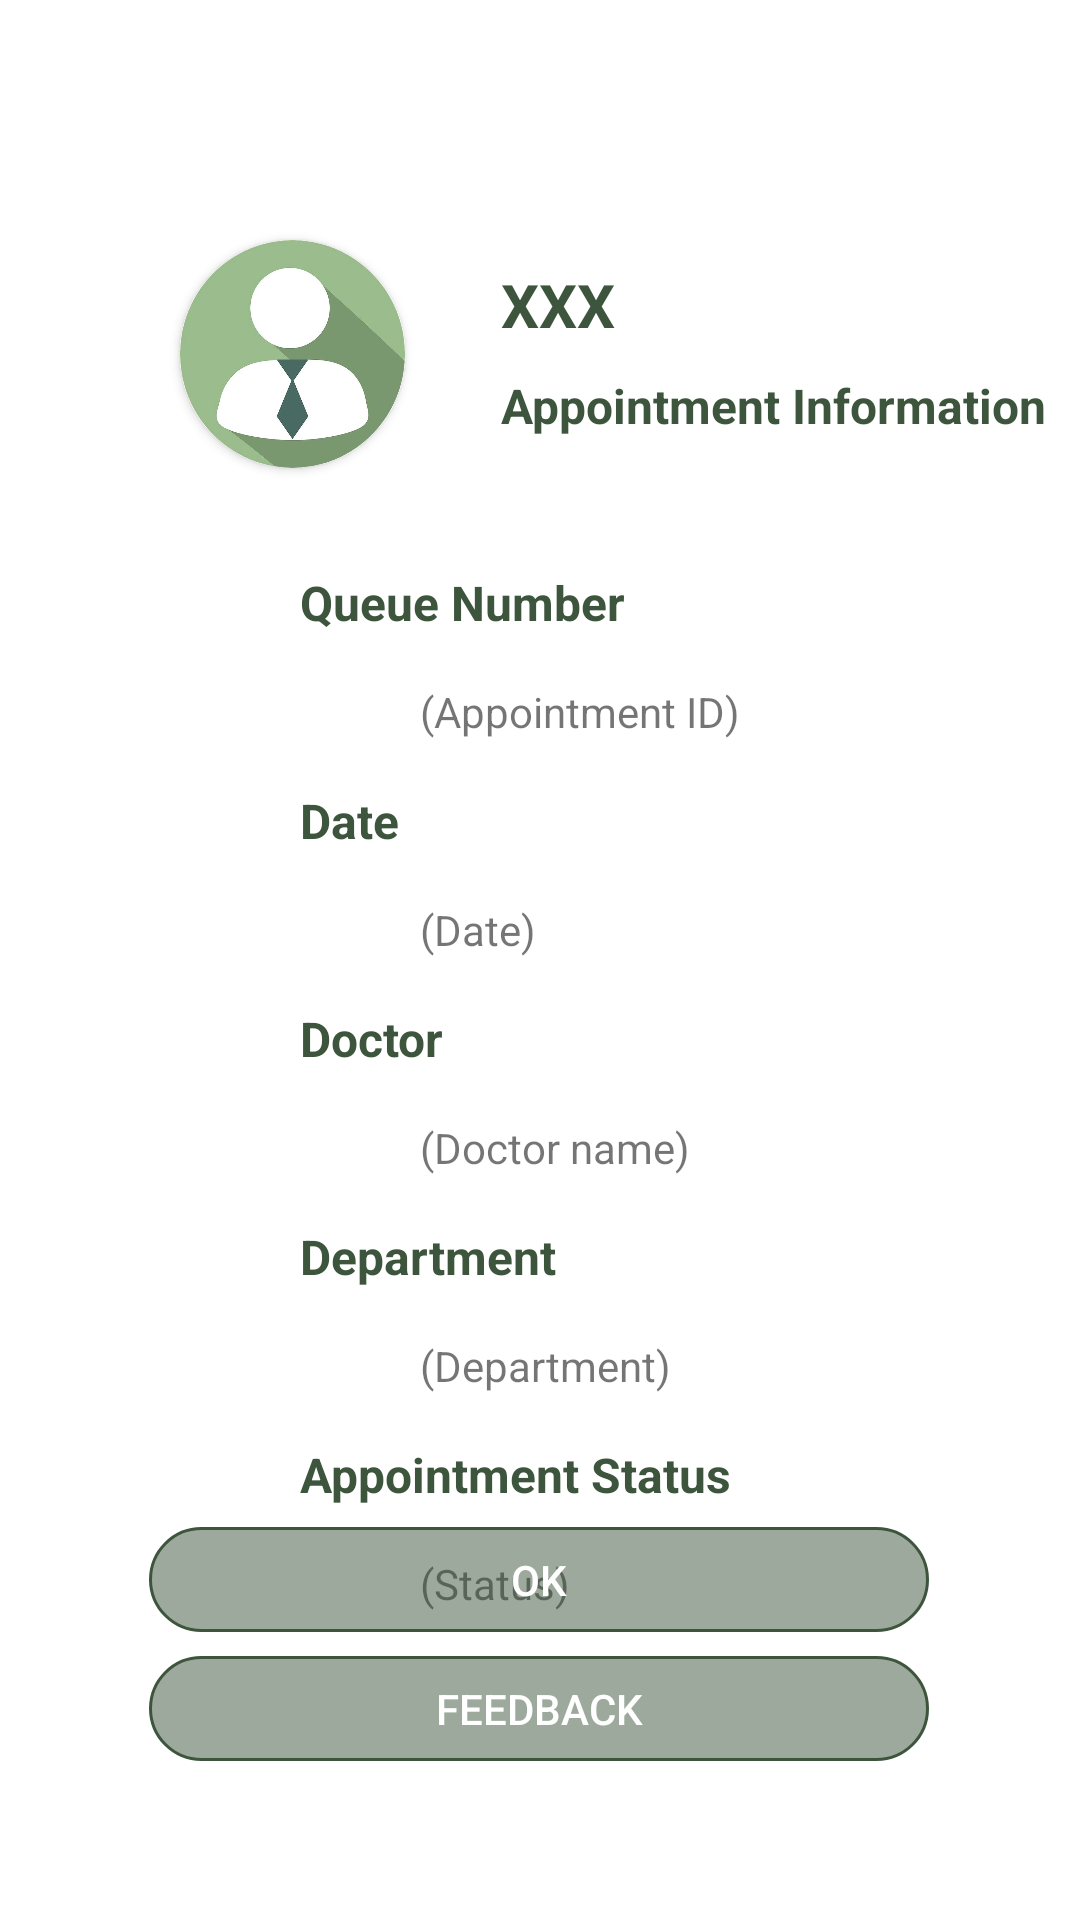

Screen size 1080 x 1920. Icon name, then its box in pixels as bbox(x1, y1, x2, y2):
patiet: bbox(180, 240, 405, 468)
